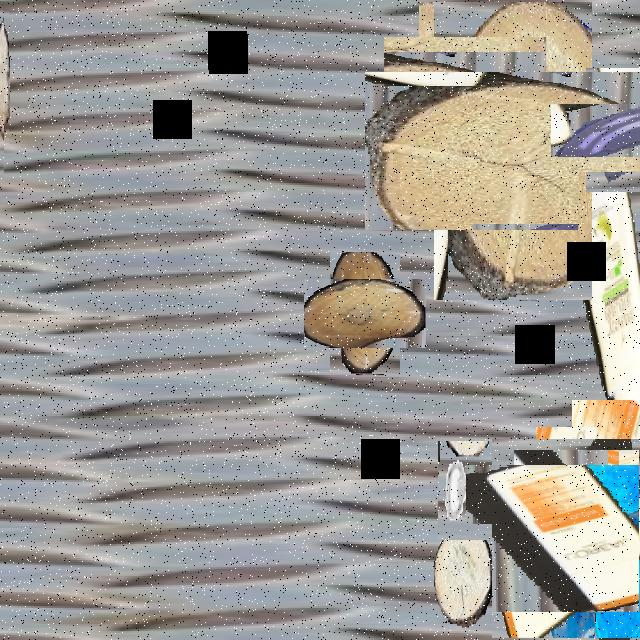glass: (401, 20, 529, 147), (547, 424, 640, 542), (524, 438, 608, 522), (568, 85, 640, 174)
metal: (491, 166, 549, 268), (438, 441, 494, 540)
plastic: (479, 451, 640, 625), (578, 172, 640, 428), (0, 2, 4, 180)
wood: (399, 37, 627, 265), (317, 265, 413, 361), (434, 524, 492, 628), (0, 2, 9, 148)
